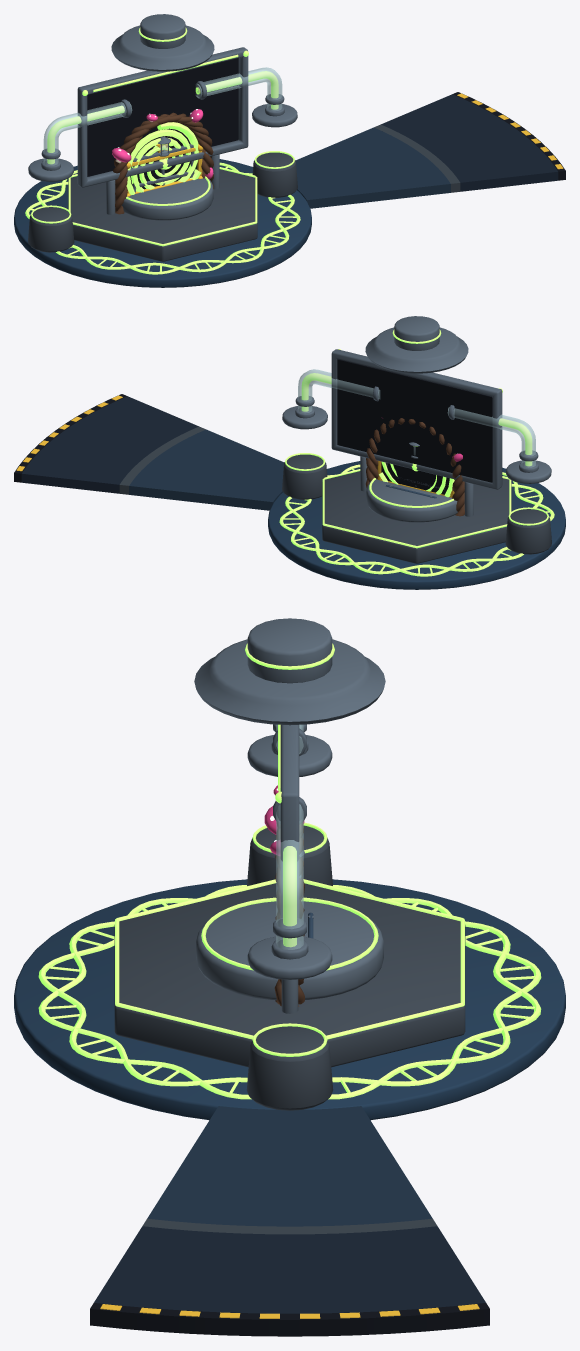
Rendered from _PaquetePlaza.fbx.
3 renders of one model, top to bottom at view 1: azimuth 30°, elevation 25°; view 2: azimuth 150°, elevation 25°; view 3: azimuth 270°, elevation 25°, orthographic. The views are drawn at different scales.
Visible parts, largest first — view 1: MaquinaEquipo_Base, PlazaCentro_Piso, MaquinaEquipo_Metal, PlazaGajo_Afuera, TableroPlaza_Fondo, PlazaGajo_Adentro, TableroPlaza_Marco, MaquinaEquipo_Luces_Neon, MaquinaEquipo_Tubos_Vidrio, PlazaCentro_Helice_Neon, PortalJardin_Remolino_Neon_Anim, PortalJardin_Raices (+7 smaller); view 2: TableroPlaza_Fondo, MaquinaEquipo_Base, PlazaCentro_Piso, MaquinaEquipo_Metal, PlazaGajo_Afuera, PlazaGajo_Adentro, TableroPlaza_Marco, PlazaCentro_Helice_Neon, MaquinaEquipo_Tubos_Vidrio, MaquinaEquipo_Luces_Neon, PortalJardin_Raices, MarcoDestacado_Placa (+5 smaller); view 3: MaquinaEquipo_Base, PlazaCentro_Piso, MaquinaEquipo_Metal, PlazaGajo_Afuera, PlazaGajo_Adentro, PlazaCentro_Helice_Neon, PlazaGajo_Borde, MaquinaEquipo_Luces_Neon, TableroPlaza_Marco, MaquinaEquipo_Tubos_Vidrio, PlazaGajo_Anillo, PlazaGajo_Franjas (+1 smaller).
Part boxes in pixels (left/top/right/bottom): MaquinaEquipo_Base: left=28, top=152, right=297, bottom=261; PlazaCentro_Piso: left=14, top=159, right=311, bottom=287; MaquinaEquipo_Metal: left=28, top=14, right=297, bottom=220; PlazaGajo_Afuera: left=381, top=94, right=558, bottom=191; TableroPlaza_Fondo: left=87, top=58, right=238, bottom=176; PlazaGajo_Adentro: left=295, top=127, right=450, bottom=208; TableroPlaza_Marco: left=77, top=47, right=248, bottom=214; MaquinaEquipo_Luces_Neon: left=31, top=27, right=294, bottom=246; MaquinaEquipo_Tubos_Vidrio: left=43, top=67, right=282, bottom=165; PlazaCentro_Helice_Neon: left=25, top=162, right=300, bottom=274; PortalJardin_Remolino_Neon_Anim: left=126, top=122, right=201, bottom=195; PortalJardin_Raices: left=113, top=112, right=213, bottom=214; TableroPlaza_Fondo: left=337, top=359, right=492, bottom=482; MaquinaEquipo_Base: left=282, top=454, right=551, bottom=563; PlazaCentro_Piso: left=268, top=461, right=565, bottom=589; MaquinaEquipo_Metal: left=282, top=316, right=551, bottom=522; PlazaGajo_Afuera: left=21, top=396, right=198, bottom=493; PlazaGajo_Adentro: left=129, top=429, right=284, bottom=510; TableroPlaza_Marco: left=331, top=349, right=502, bottom=516; PlazaCentro_Helice_Neon: left=279, top=464, right=554, bottom=576; MaquinaEquipo_Tubos_Vidrio: left=298, top=369, right=535, bottom=467; MaquinaEquipo_Luces_Neon: left=285, top=329, right=548, bottom=548; PortalJardin_Raices: left=365, top=418, right=464, bottom=516; MarcoDestacado_Placa: left=381, top=462, right=449, bottom=494; MaquinaEquipo_Base: left=114, top=825, right=465, bottom=1110; PlazaCentro_Piso: left=14, top=879, right=565, bottom=1120; MaquinaEquipo_Metal: left=194, top=618, right=385, bottom=1000; PlazaGajo_Afuera: left=94, top=1226, right=485, bottom=1313; PlazaGajo_Adentro: left=147, top=1106, right=432, bottom=1226; PlazaCentro_Helice_Neon: left=38, top=885, right=541, bottom=1099; PlazaGajo_Borde: left=90, top=1303, right=489, bottom=1336; MaquinaEquipo_Luces_Neon: left=115, top=643, right=464, bottom=1056; TableroPlaza_Marco: left=280, top=725, right=299, bottom=1013; MaquinaEquipo_Tubos_Vidrio: left=276, top=724, right=303, bottom=949; PlazaGajo_Anillo: left=142, top=1218, right=437, bottom=1234; PlazaGajo_Franjas: left=100, top=1304, right=479, bottom=1318.
Bounding box in the file's own units: 57.35 × 22.5 × 30.
